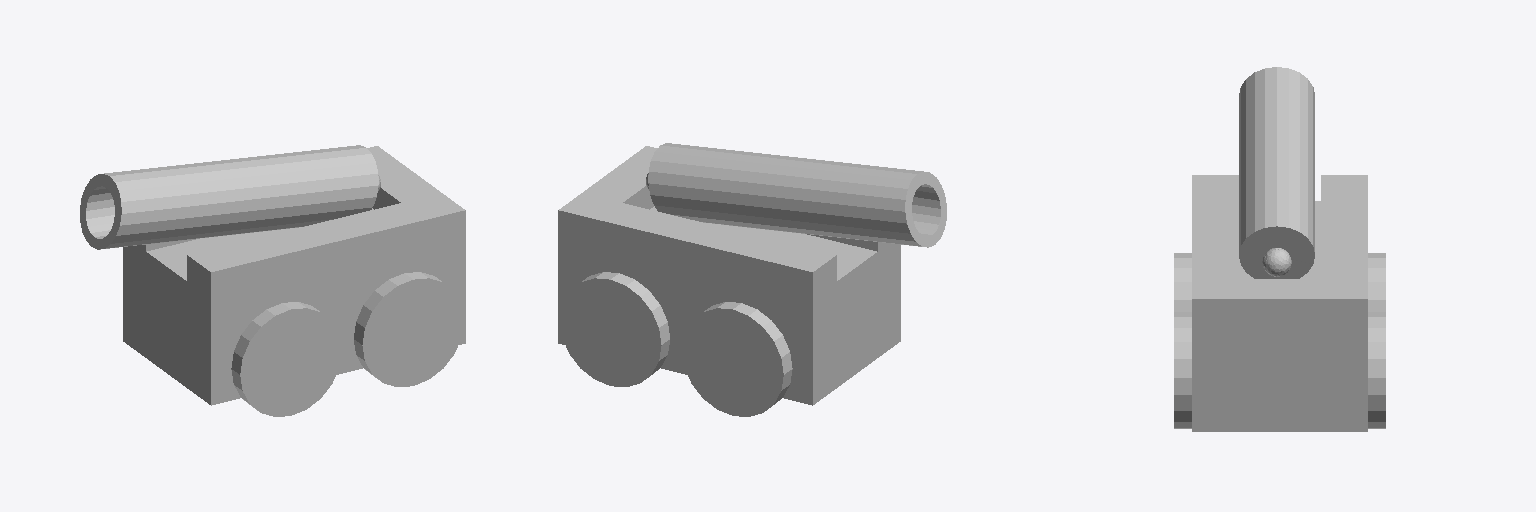
File: cannon.obj
3 renders of one model, left to right at view 1: azimuth 30°, elevation 25°; view 2: azimuth 150°, elevation 25°; view 3: azimuth 270°, elevation 25°, orthographic.
Parts seen in each view (by area): view 1: Cannon; view 2: Cannon; view 3: Cannon.
Boxes of the visible parts, x1,y1,x2,y2 form: Cannon: [80, 145, 465, 416]; Cannon: [558, 143, 946, 416]; Cannon: [1174, 67, 1385, 431].
Size of the model in its own units: 65 by 43.87 by 36.